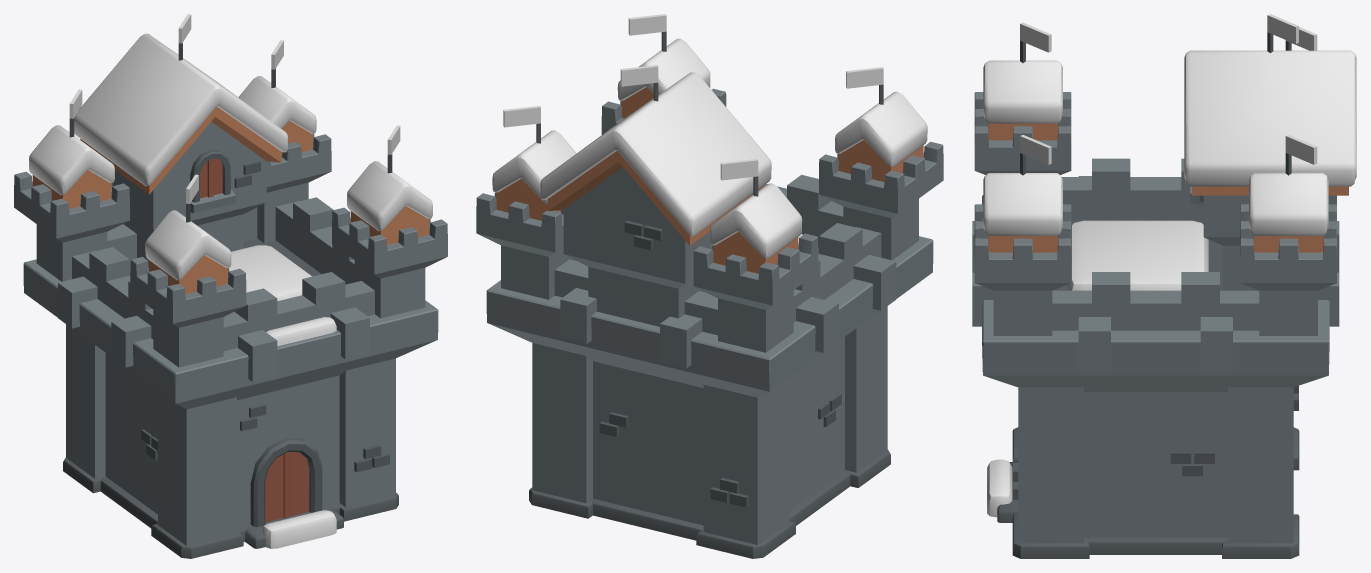
Rendered from castle_snow.gltf.glb.
3 views of the same model, side by side, from view 1: azimuth 30°, elevation 25°; view 2: azimuth 150°, elevation 25°; view 3: azimuth 270°, elevation 25° (orthographic). The views are drawn at different scales.
Visible parts, largest first — view 1: castle_snow; view 2: castle_snow; view 3: castle_snow.
Part boxes in pixels (x1=…): castle_snow: x1=14, y1=14, x2=447, y2=558; castle_snow: x1=476, y1=14, x2=943, y2=558; castle_snow: x1=972, y1=14, x2=1356, y2=558.
Bounding box in the file's own units: 1.8 × 2.62 × 1.89.
